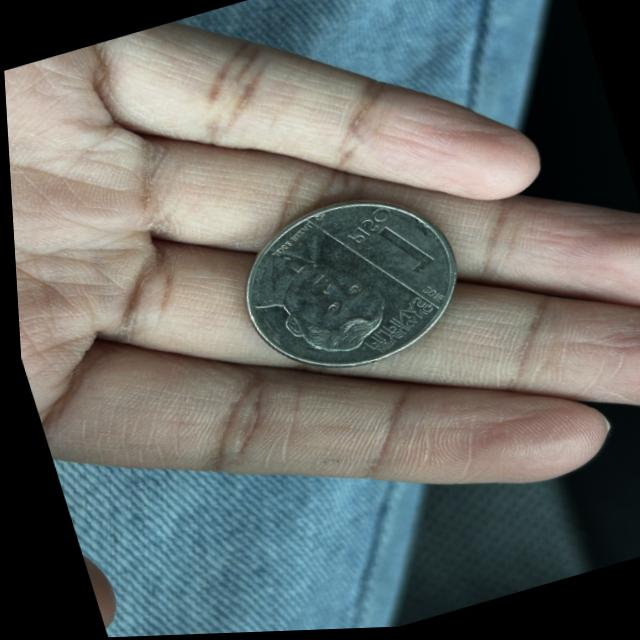1_New_Front: (346, 200, 432, 298)
